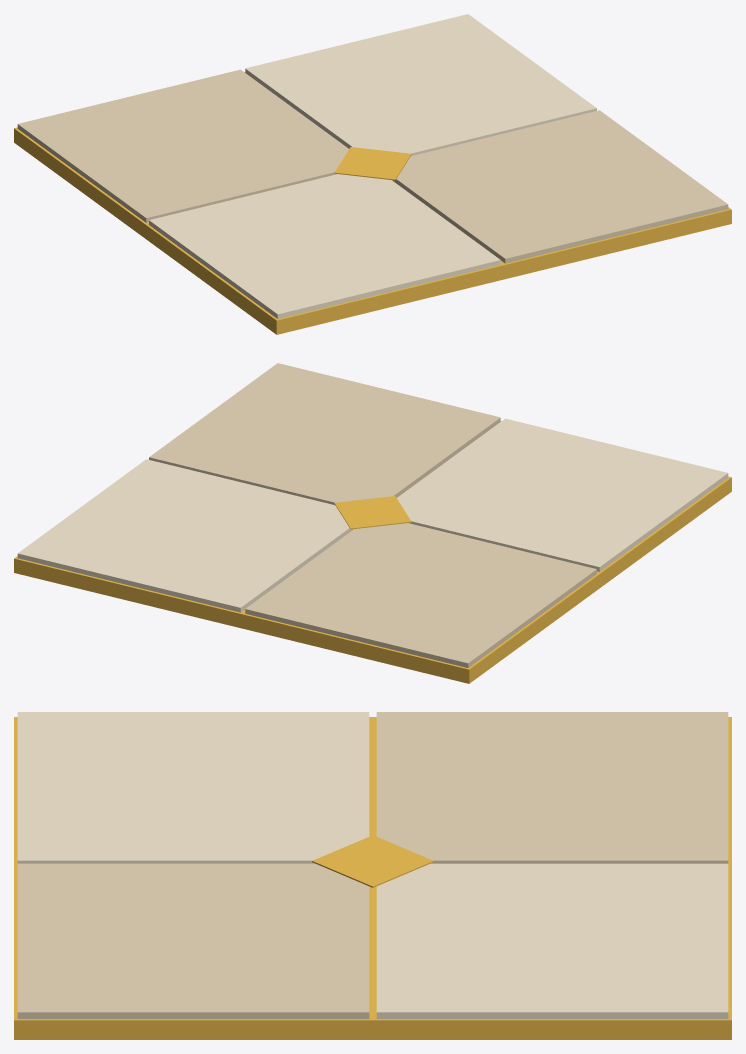
The model's file is PR_Building_Zemin_Altin.fbx.
The picture shows the model from 3 angles, top to bottom: view 1: azimuth 30°, elevation 25°; view 2: azimuth 150°, elevation 25°; view 3: azimuth 270°, elevation 25°; orthographic projection. The views are drawn at different scales.
Parts seen in each view (by area): view 1: PR_Building_Zemin_Altin; view 2: PR_Building_Zemin_Altin; view 3: PR_Building_Zemin_Altin.
Boxes of the visible parts, x1,y1,x2,y2 form: PR_Building_Zemin_Altin: [14, 14, 731, 334]; PR_Building_Zemin_Altin: [14, 363, 731, 683]; PR_Building_Zemin_Altin: [14, 712, 731, 1039].
Bounding box in the file's own units: 1 × 0.042 × 1.
